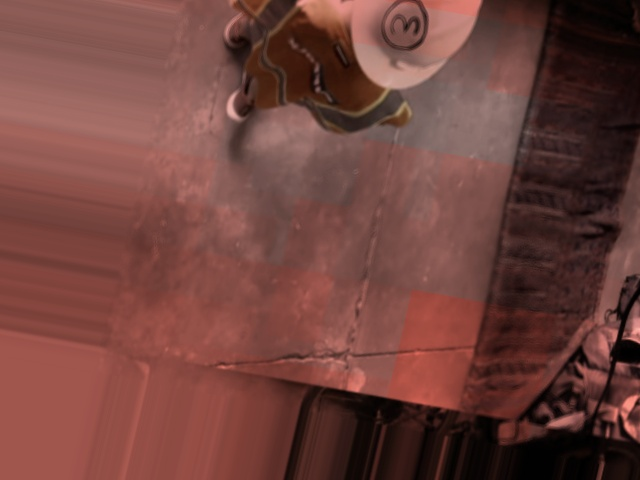three: (378, 0, 433, 52)
